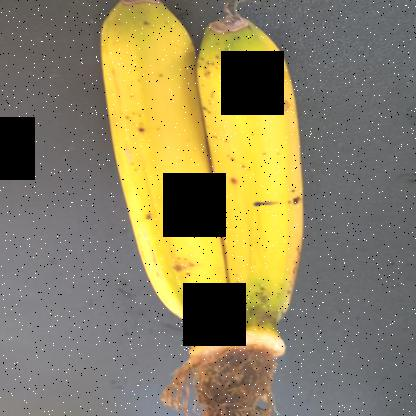freshripe: (64, 1, 243, 330)
ripe: (185, 1, 337, 322)
